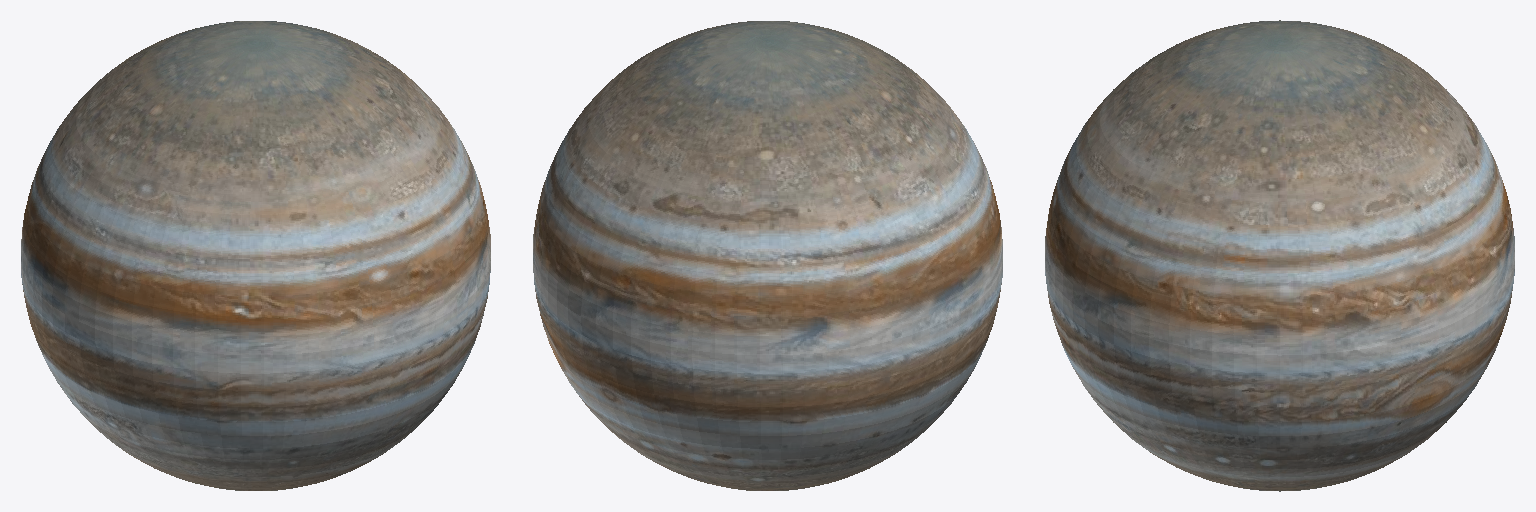
3 views of the same model, side by side, from view 1: azimuth 30°, elevation 25°; view 2: azimuth 150°, elevation 25°; view 3: azimuth 270°, elevation 25° (orthographic).
Visible parts, largest first — view 1: Sphere; view 2: Sphere; view 3: Sphere.
Part boxes in pixels (x1,y1,x2,y2): Sphere: (21,21,490,490); Sphere: (533,21,1002,490); Sphere: (1045,20,1514,491).
Bounding box in the file's own units: 219 × 219 × 219.
1 materials, 1 textured.